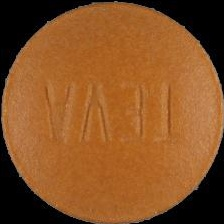0172-5729: (0, 0, 224, 224)
